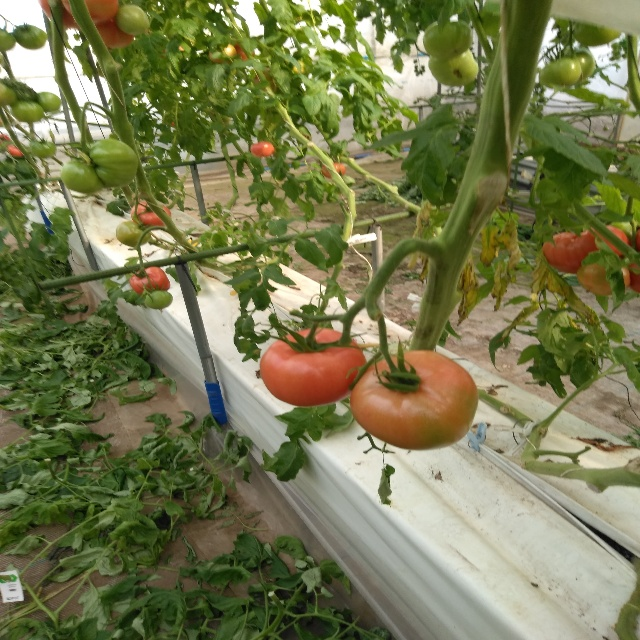b_fully_ripened: (259, 328, 368, 408), (542, 225, 628, 273), (129, 266, 170, 297), (130, 201, 171, 230)
b_green: (88, 139, 139, 187), (422, 21, 474, 60), (429, 49, 479, 87), (61, 159, 104, 193), (114, 4, 150, 35), (12, 24, 48, 50), (116, 221, 151, 247), (11, 99, 45, 122), (143, 290, 173, 310), (34, 92, 62, 113)
b_half_ripened: (348, 349, 479, 450), (577, 258, 630, 295)
